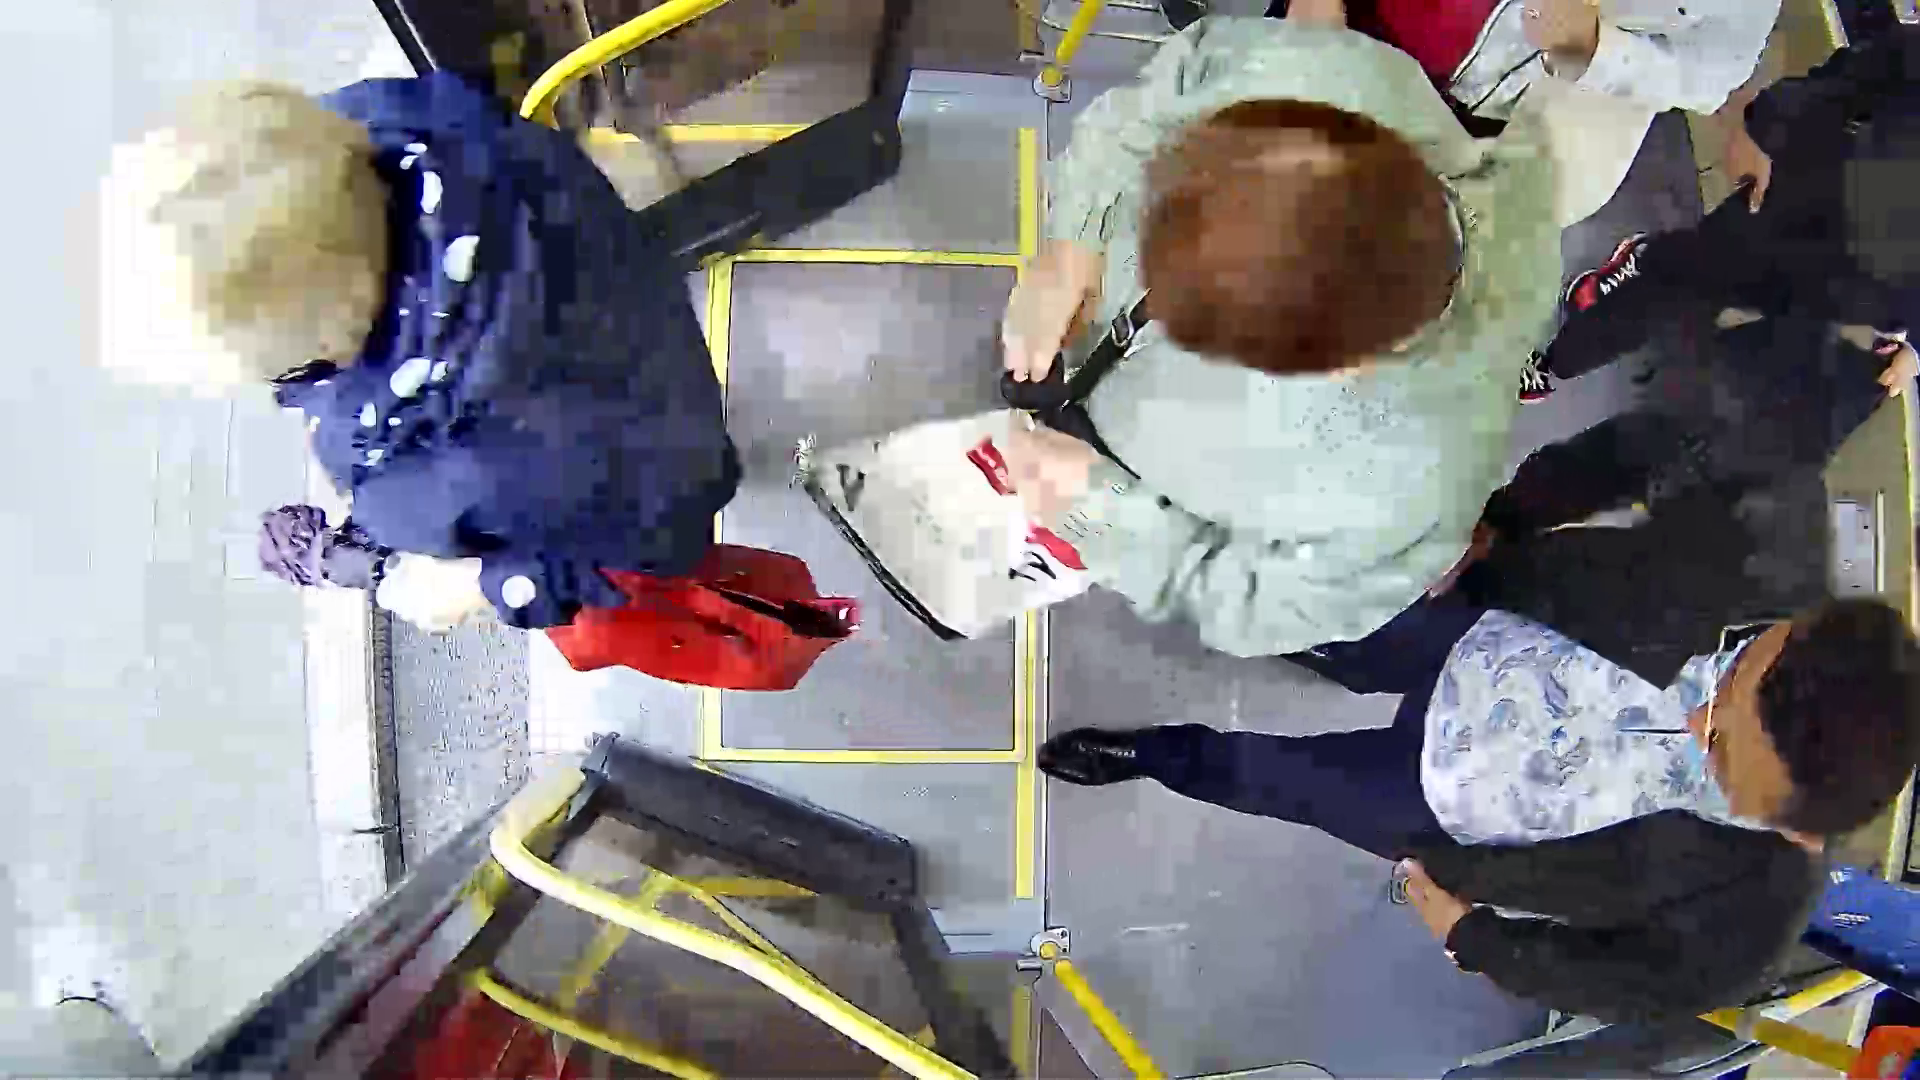person: (121, 29, 856, 633), (923, 38, 1556, 669), (1296, 524, 1902, 1037)
